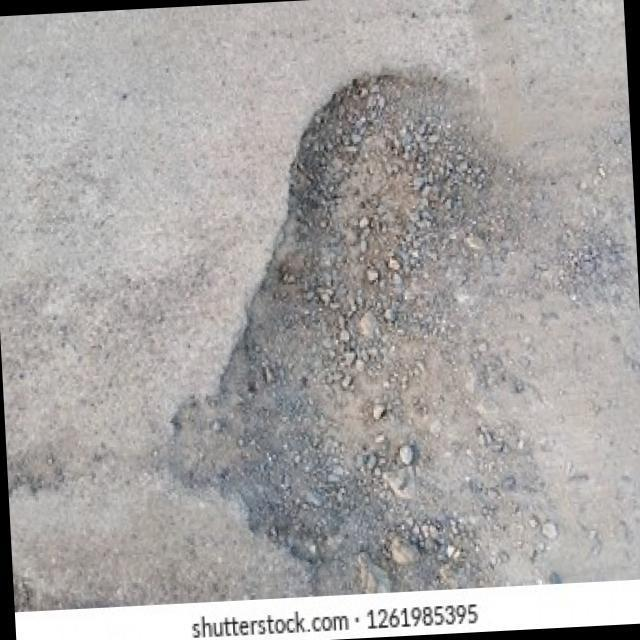pothole: (145, 58, 574, 600)
